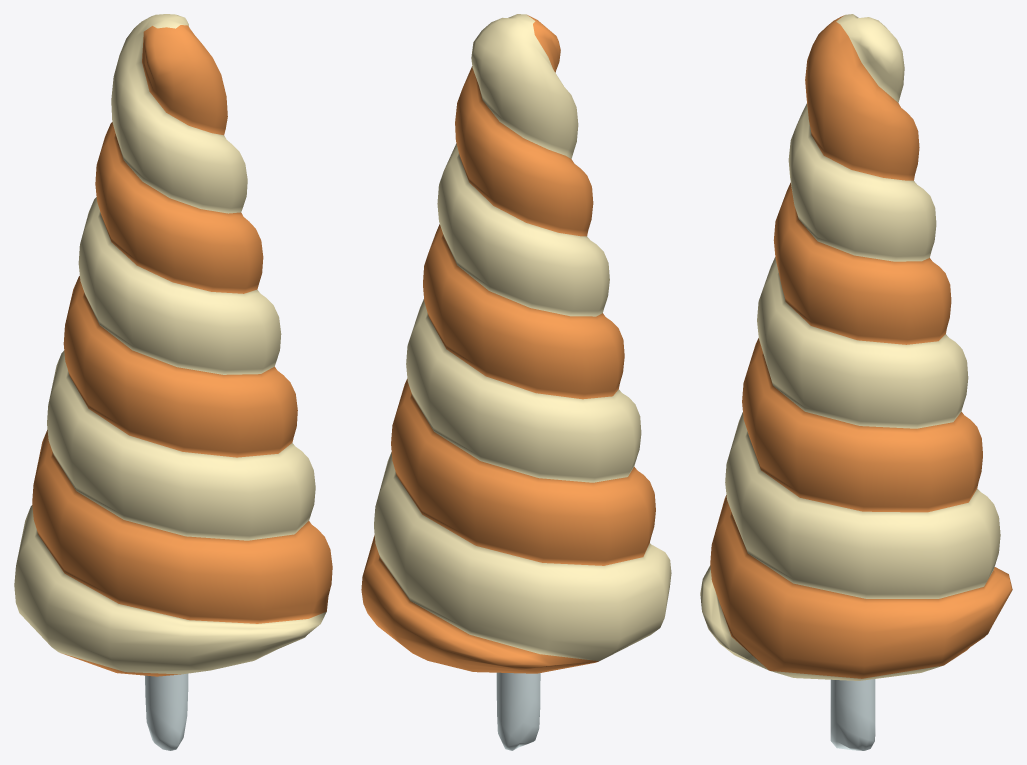
Rendered from Tree_Candy_02.fbx.
3 renders of one model, left to right at view 1: azimuth 30°, elevation 25°; view 2: azimuth 150°, elevation 25°; view 3: azimuth 270°, elevation 25°, orthographic.
Parts seen in each view (by area): view 1: Tree_Candy_02_LOD0; view 2: Tree_Candy_02_LOD0; view 3: Tree_Candy_02_LOD0.
Part boxes in pixels (<box>): Tree_Candy_02_LOD0: <box>14,14,332,750</box>; Tree_Candy_02_LOD0: <box>361,14,671,750</box>; Tree_Candy_02_LOD0: <box>700,14,1012,750</box>.
Size of what is drawn, in the model's own units: 579 by 1476 by 571.
